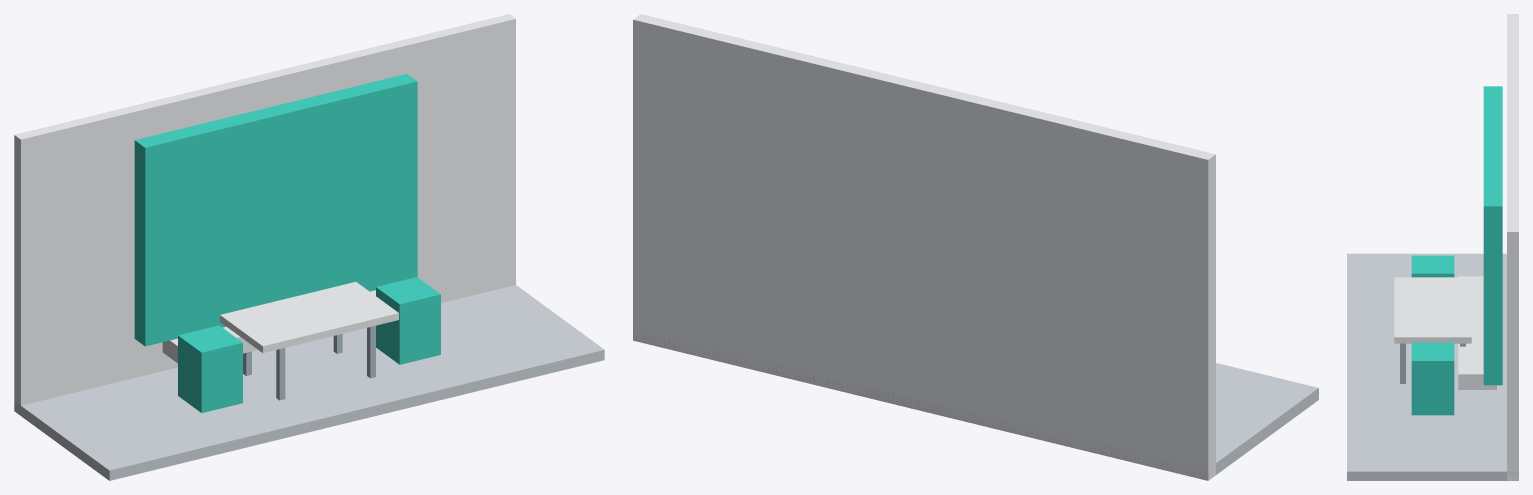
3 views of the same model, side by side, from view 1: azimuth 30°, elevation 25°; view 2: azimuth 150°, elevation 25°; view 3: azimuth 270°, elevation 25° (orthographic). The views are drawn at different scales.
Visible parts, largest first — view 1: Exhibition Booth Concept; view 2: Exhibition Booth Concept; view 3: Exhibition Booth Concept.
Part boxes in pixels (<box>): Exhibition Booth Concept: <box>14,14,604,480</box>; Exhibition Booth Concept: <box>633,14,1318,480</box>; Exhibition Booth Concept: <box>1347,14,1518,480</box>.
Bounding box in the file's own units: 6 × 3.2 × 2.
